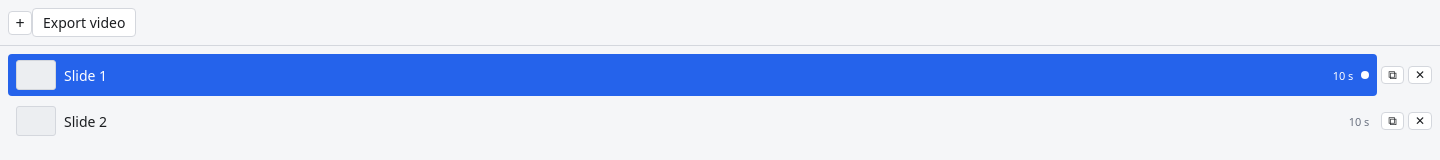
Test: SlidesPanel inline rename › cancels the rename on Escape
Double-click the text "Slide 1": (86, 75) [64, 66, 107, 84]
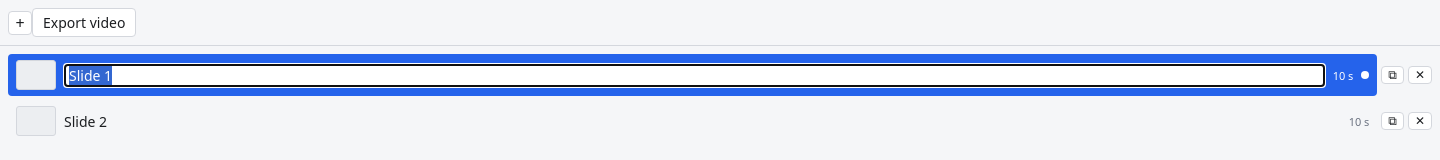
In the field named "Rename Slide 1": (694, 75) [64, 64, 1325, 86], type "Discarded"
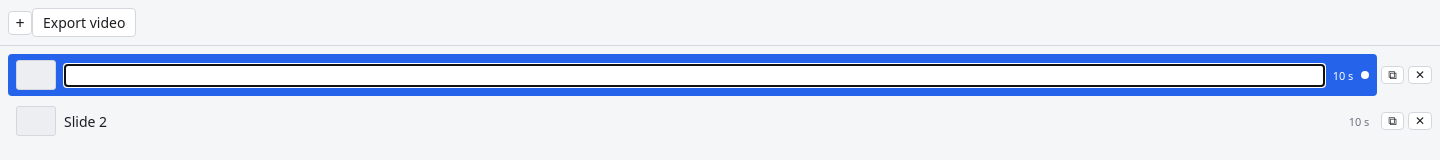
Press Escape
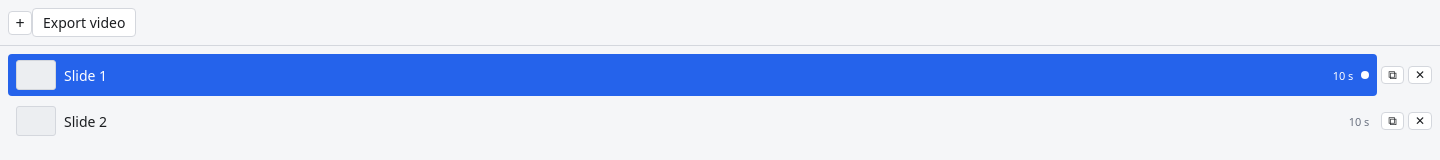
Check: the text "Slide 1" is shown, box [64, 66, 107, 84]
